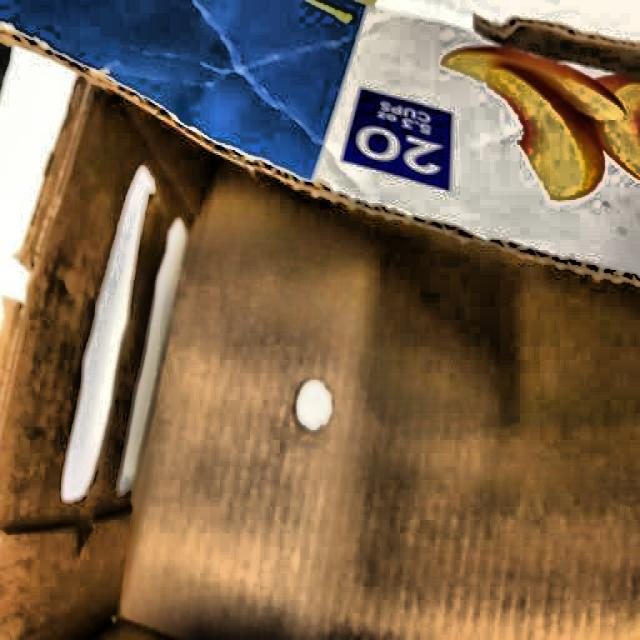cardboard: (10, 76, 620, 629)
